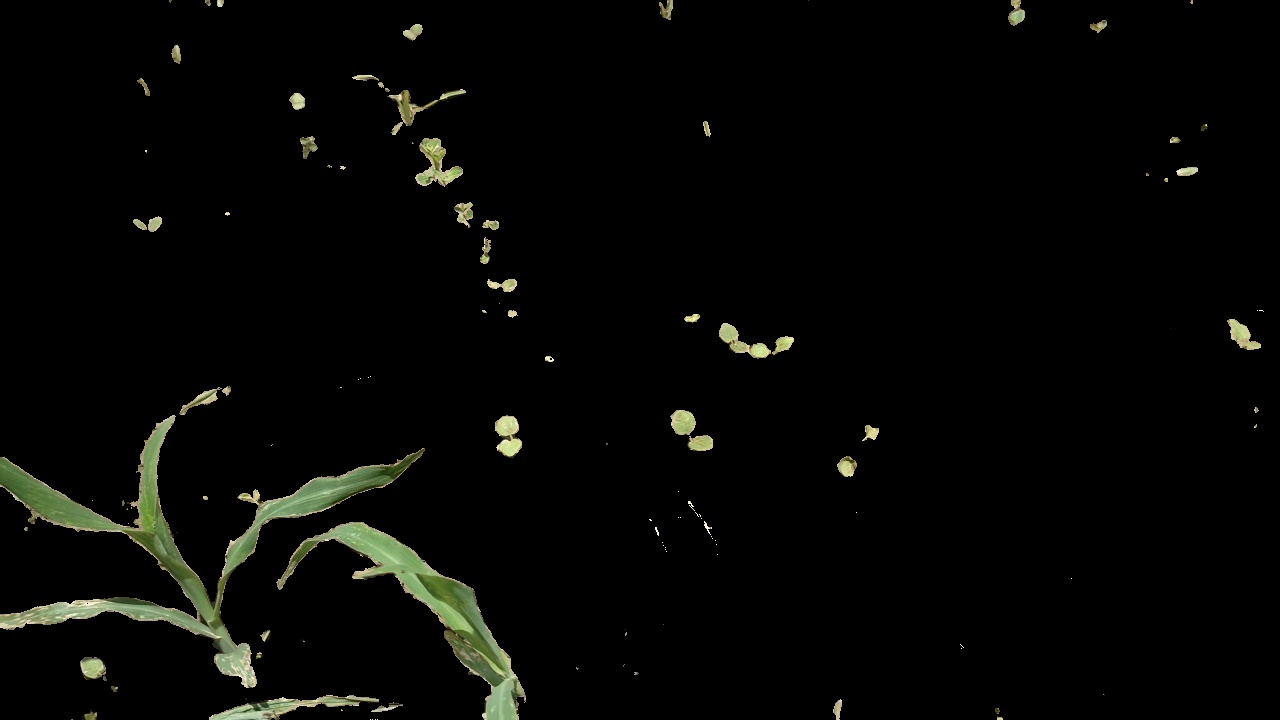crop: (1, 392, 309, 720), (271, 531, 573, 715)
weed: (713, 325, 805, 365), (403, 143, 481, 190), (659, 412, 733, 459), (836, 424, 888, 482), (491, 405, 538, 469), (121, 205, 176, 244), (479, 269, 526, 299)
